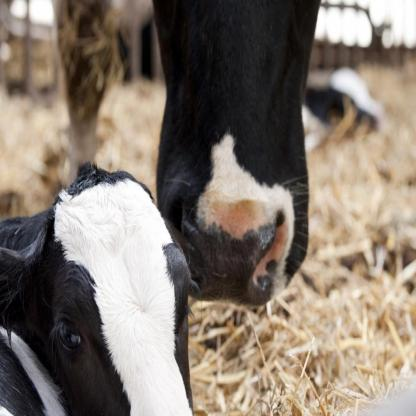cow: (152, 0, 322, 303), (0, 172, 194, 416)
